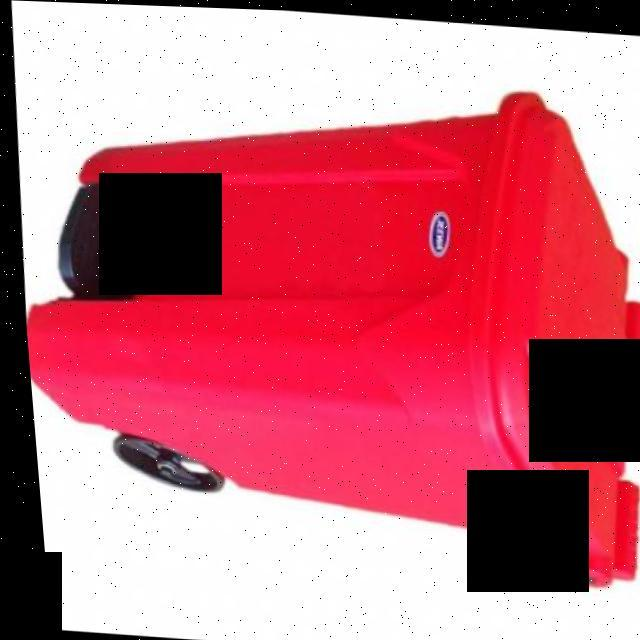bin: (2, 38, 640, 606)
